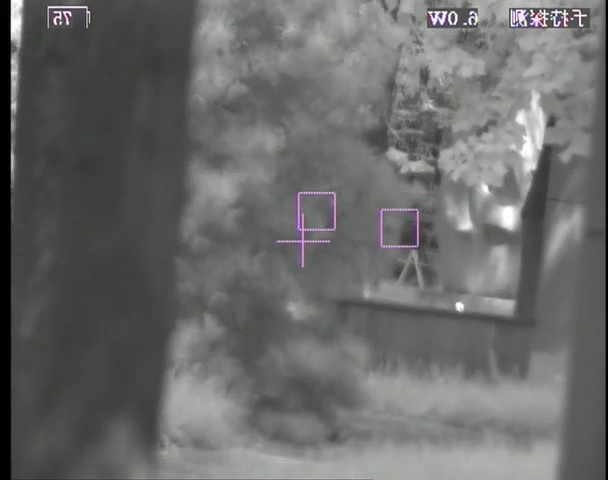my: (455, 301, 465, 313)
